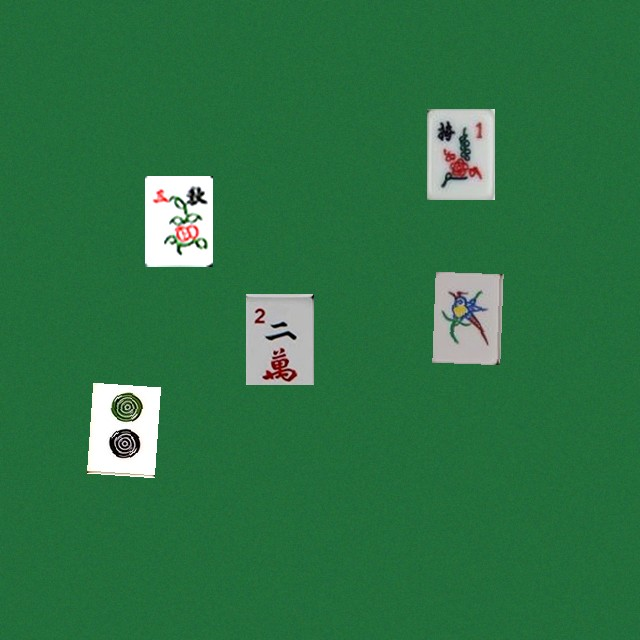tile: (245, 293, 313, 384), (432, 271, 500, 362), (426, 108, 494, 199), (144, 175, 212, 266), (86, 382, 154, 473)
